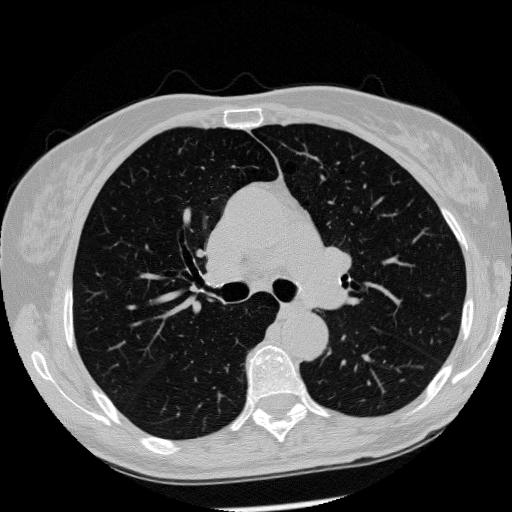nodule: (350, 204, 363, 217)
